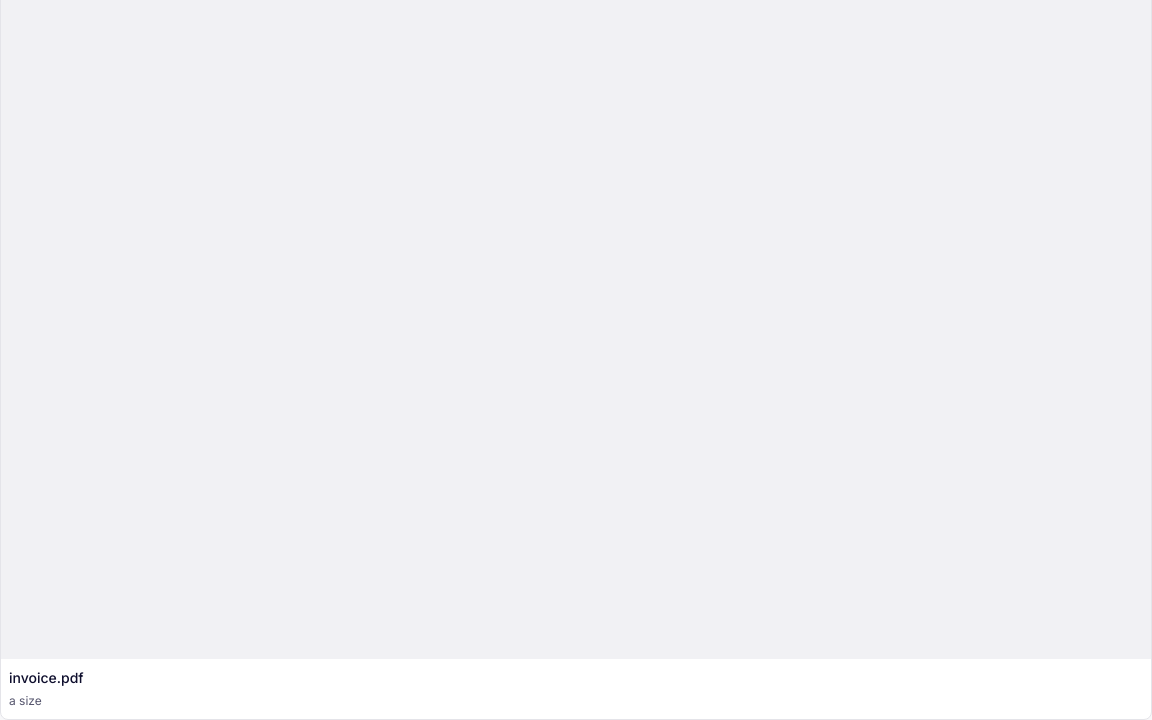
AttachmentViewer › steps to files without a tile, and gives focus back to the button it was opened with
(page scrolled)
Click the button with aria-label "Open invoice.pdf" at (46, 678), box [9,667,1143,689]
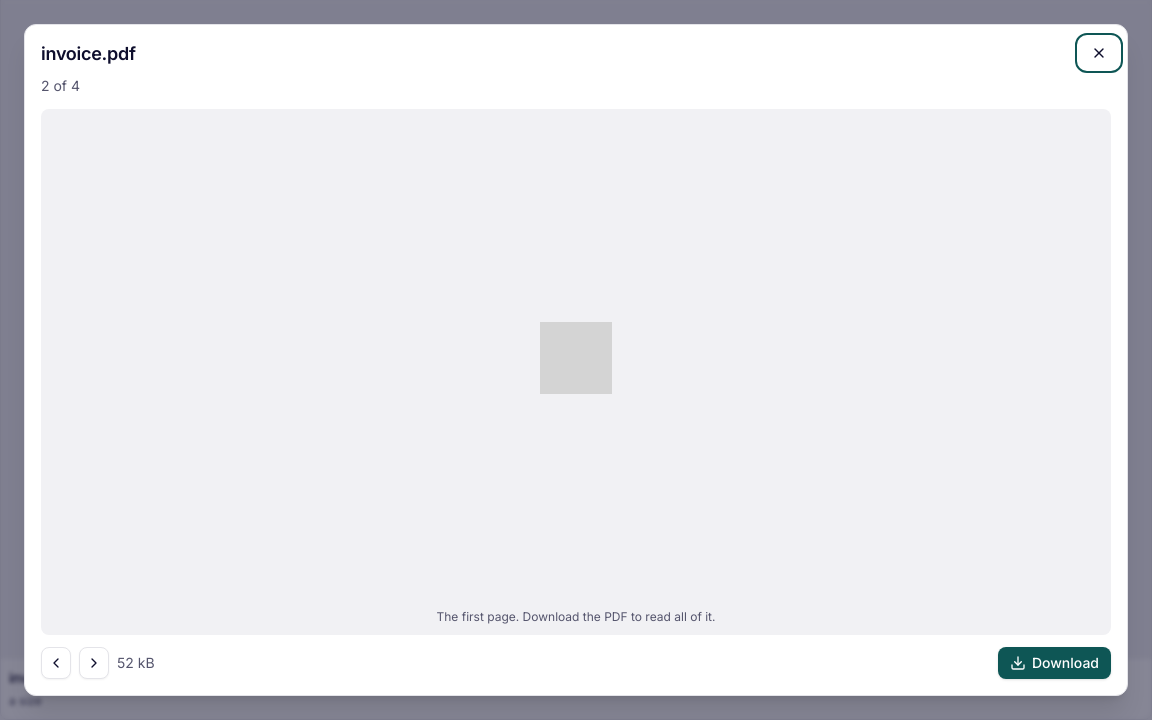
Press Arrowright
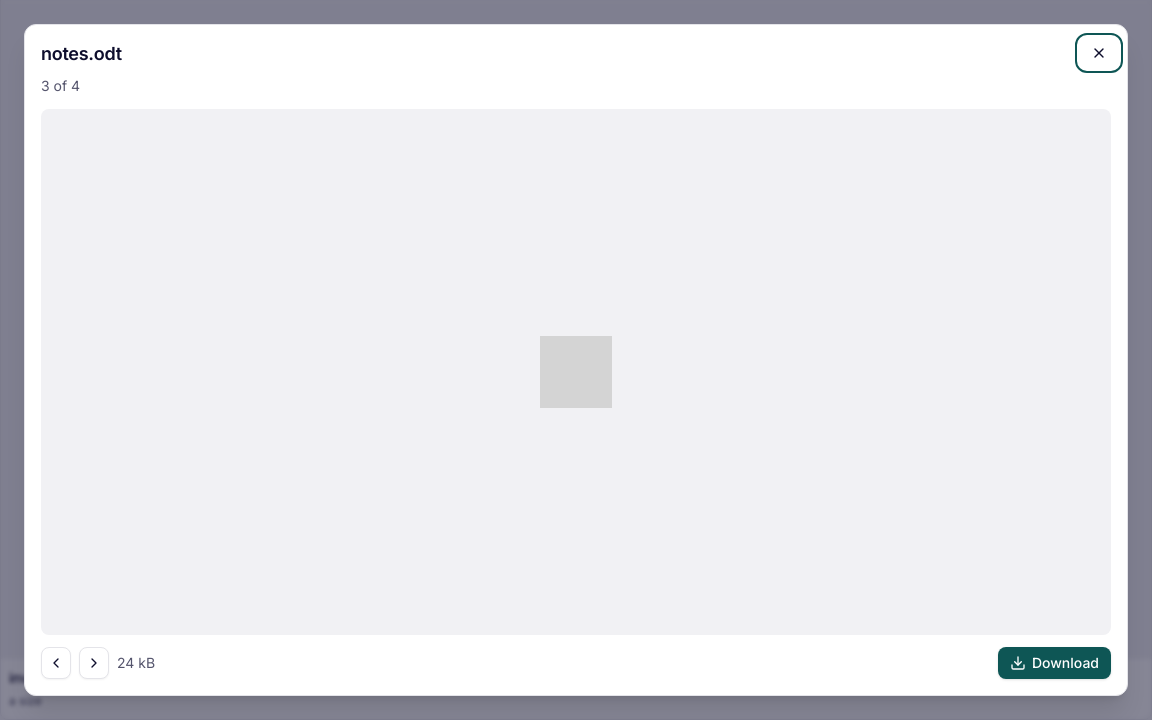
Press Escape
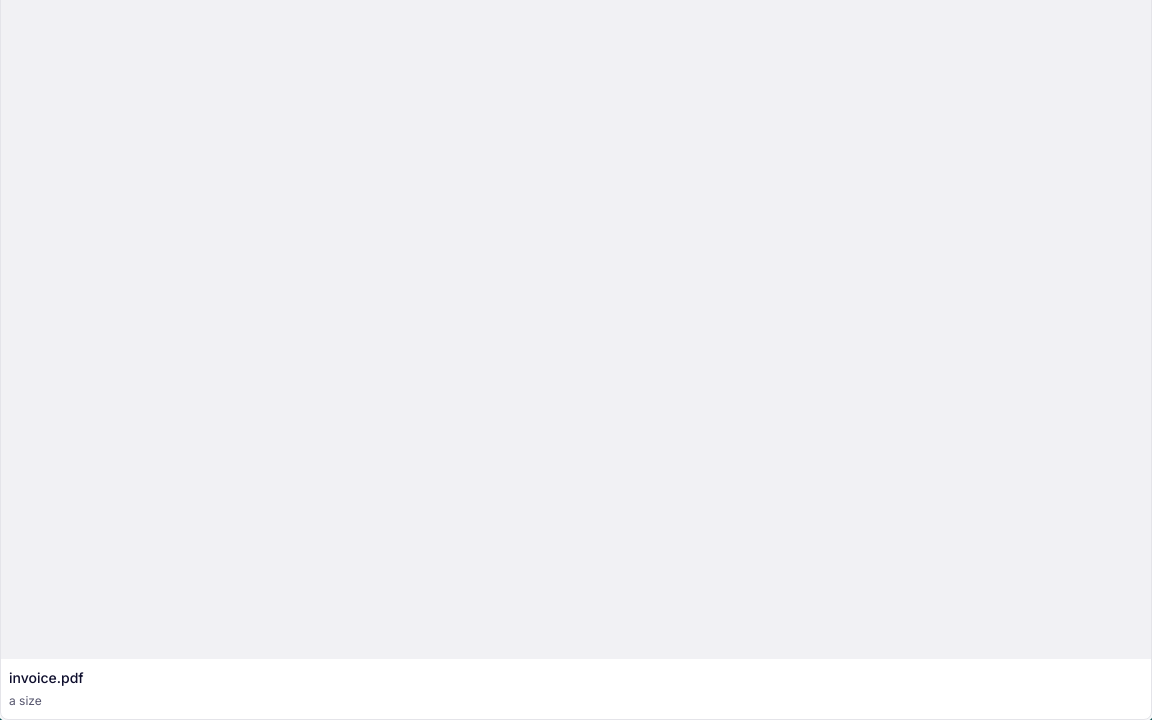
Now the dialog is gone
